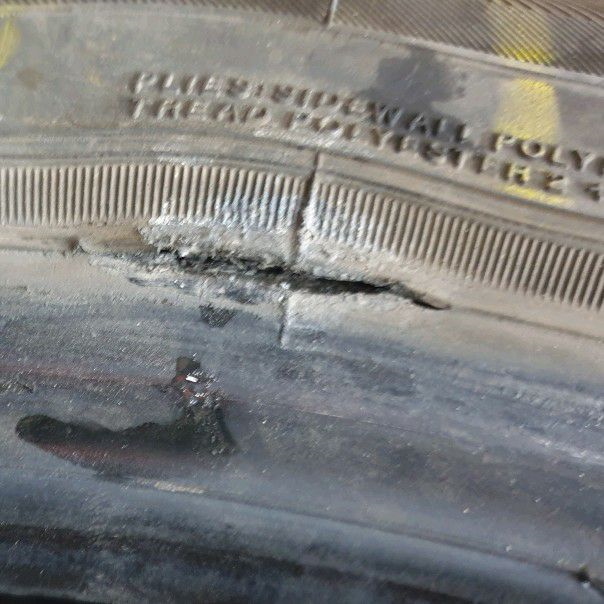cut: (85, 232, 459, 314)
